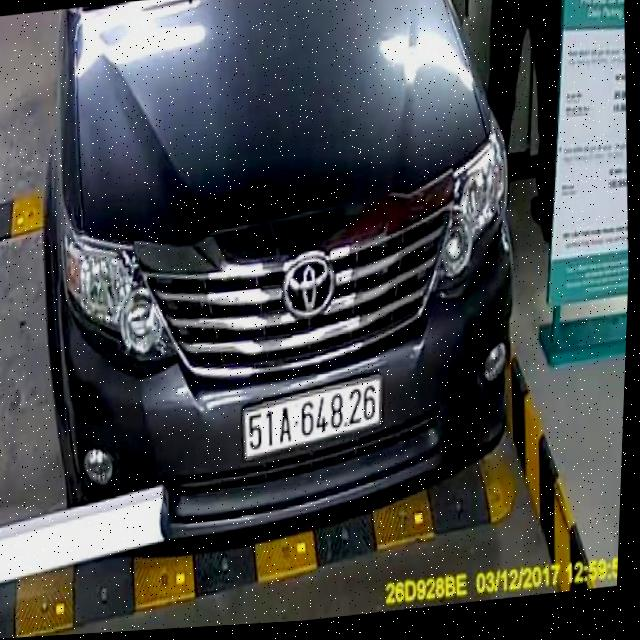car: (20, 0, 538, 565)
plate: (232, 385, 389, 461)
